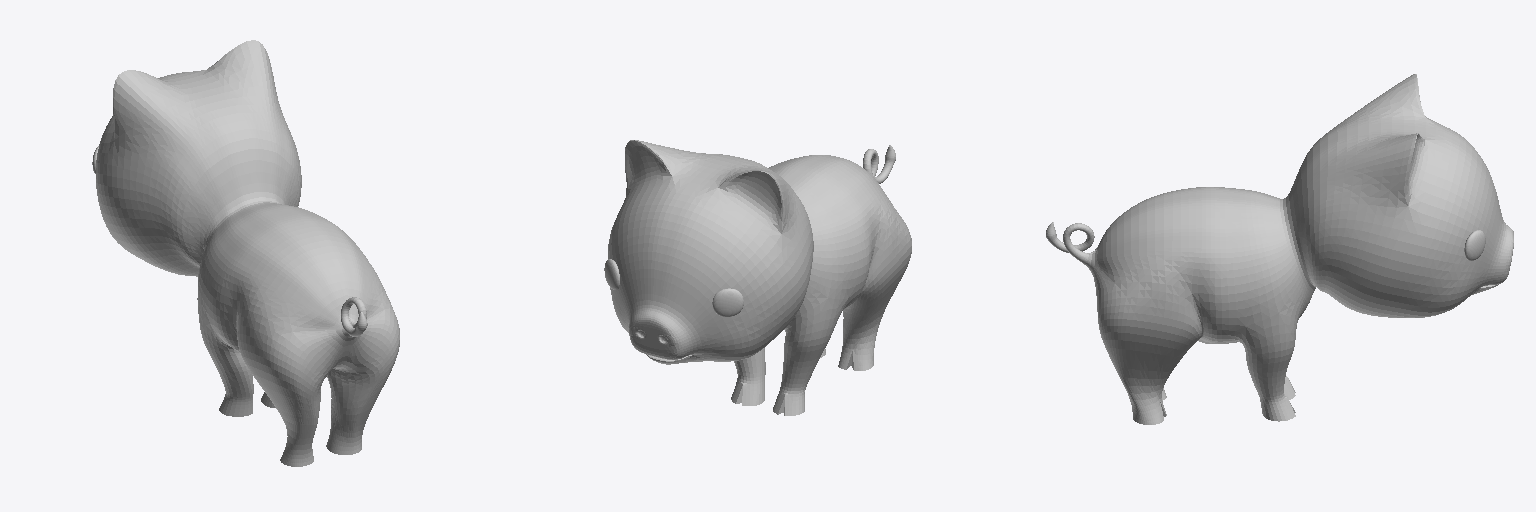
Rendered from CartoonPig2-bl.obj.
3 views of the same model, side by side, from view 1: azimuth 30°, elevation 25°; view 2: azimuth 150°, elevation 25°; view 3: azimuth 270°, elevation 25° (orthographic).
Parts seen in each view (by area): view 1: Pig; view 2: Pig; view 3: Pig.
Part boxes in pixels (left/top/right/bottom): Pig: left=92, top=40, right=399, bottom=466; Pig: left=604, top=140, right=911, bottom=415; Pig: left=1046, top=74, right=1513, bottom=424.
Size of the model in its own units: 2.09 by 3.41 by 4.82.